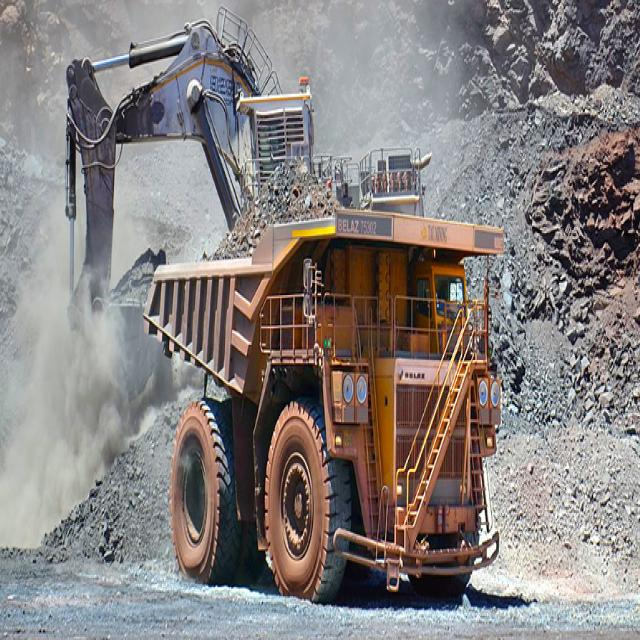dump_truck: (144, 207, 503, 604)
excavator: (36, 12, 442, 357)
